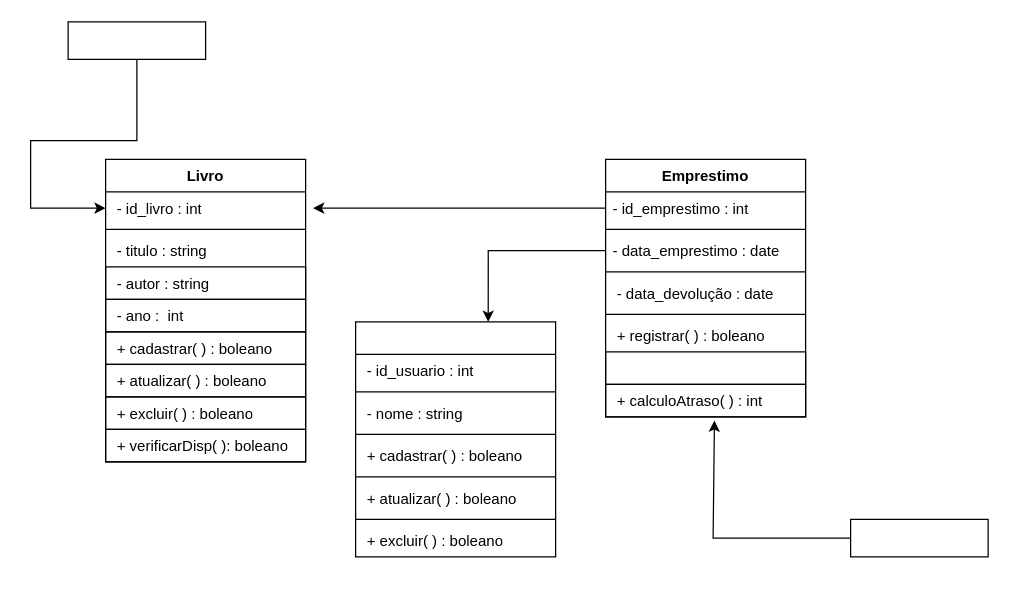
Image size: 1010x589. Some labels were removed from this diagram. The shapes that lost their labels are listed below. From the top down, each one's box as (x1, y1, x2, y2) in pixels, then its label:
(67, 21, 206, 59): ATRIBUTOS
(604, 351, 806, 384): + devolver( ) : boleano
(354, 321, 556, 557): Usuário
(849, 518, 988, 557): METODOS
